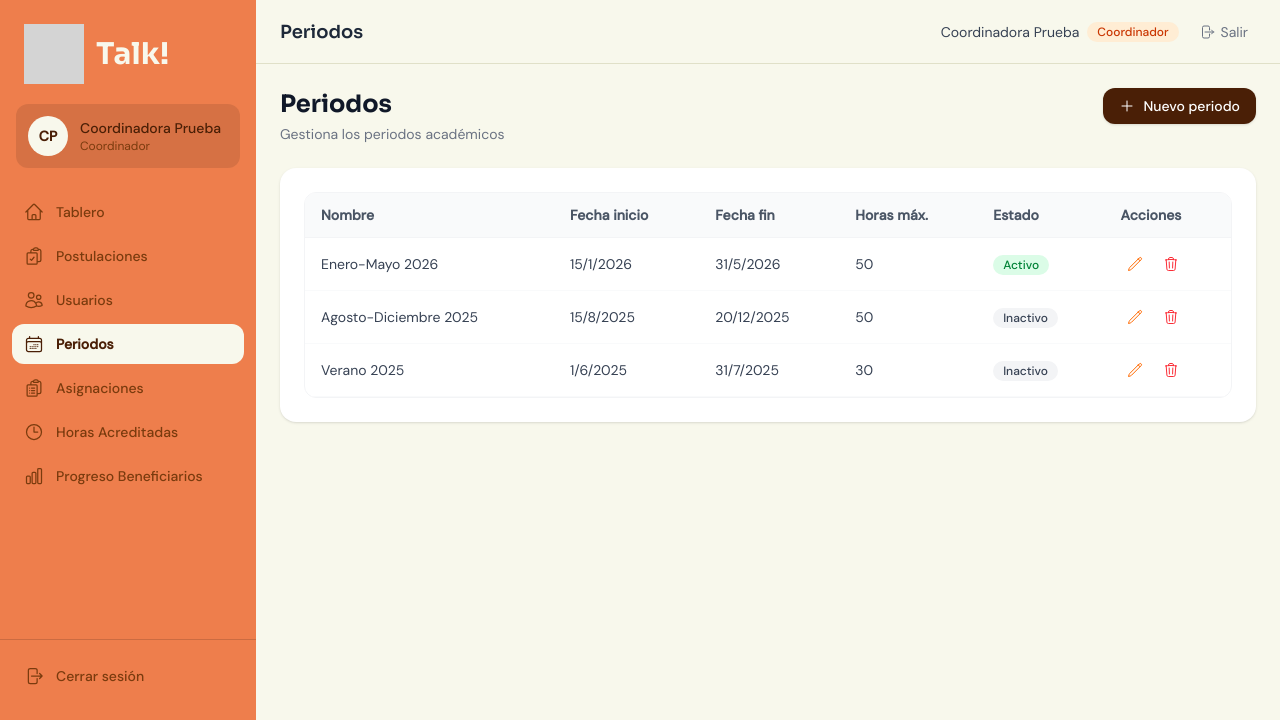
Test case: Periodos › creates periodo successfully and refreshes list
Click the button "Nuevo periodo". click: [1180, 106]
box: [1103,88,1256,124]
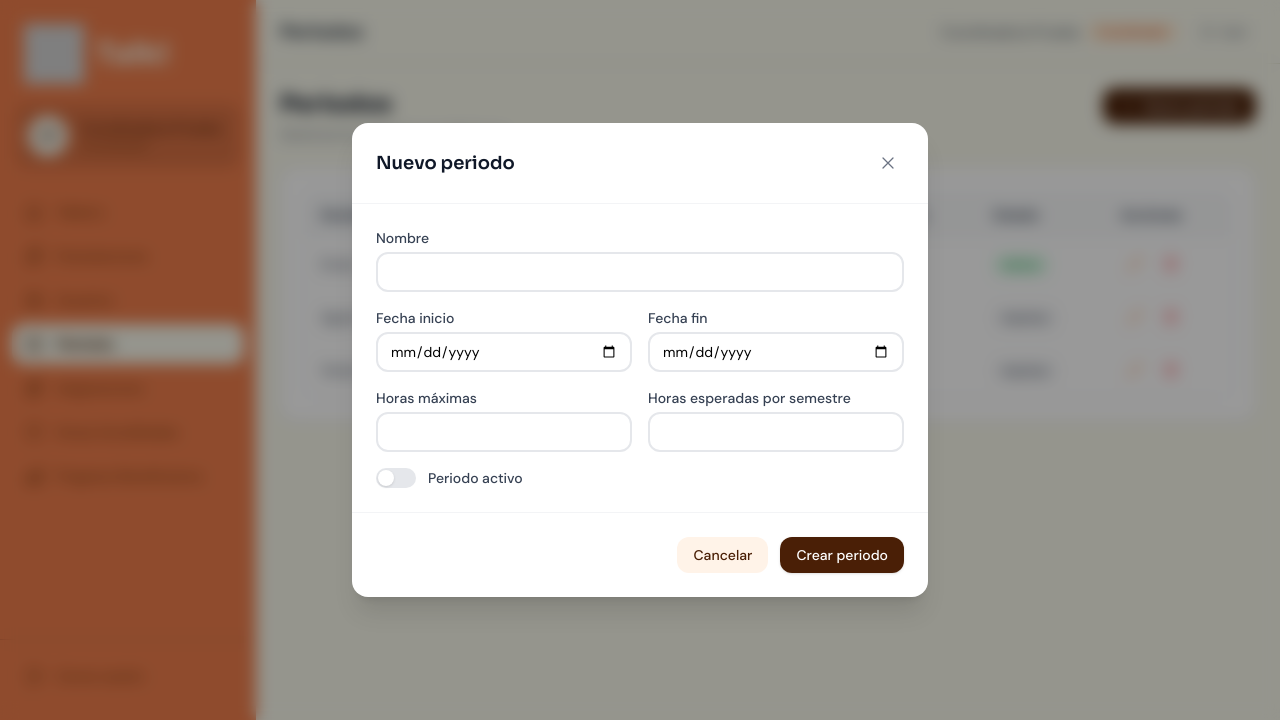
Type "Nuevo Periodo" into the field named "nombre". click: [640, 272]
box: [376,252,904,292]
Type "2026-06-10" into the 1st date field named "fecha_inicio". click: [504, 352]
box: [376,332,632,372]
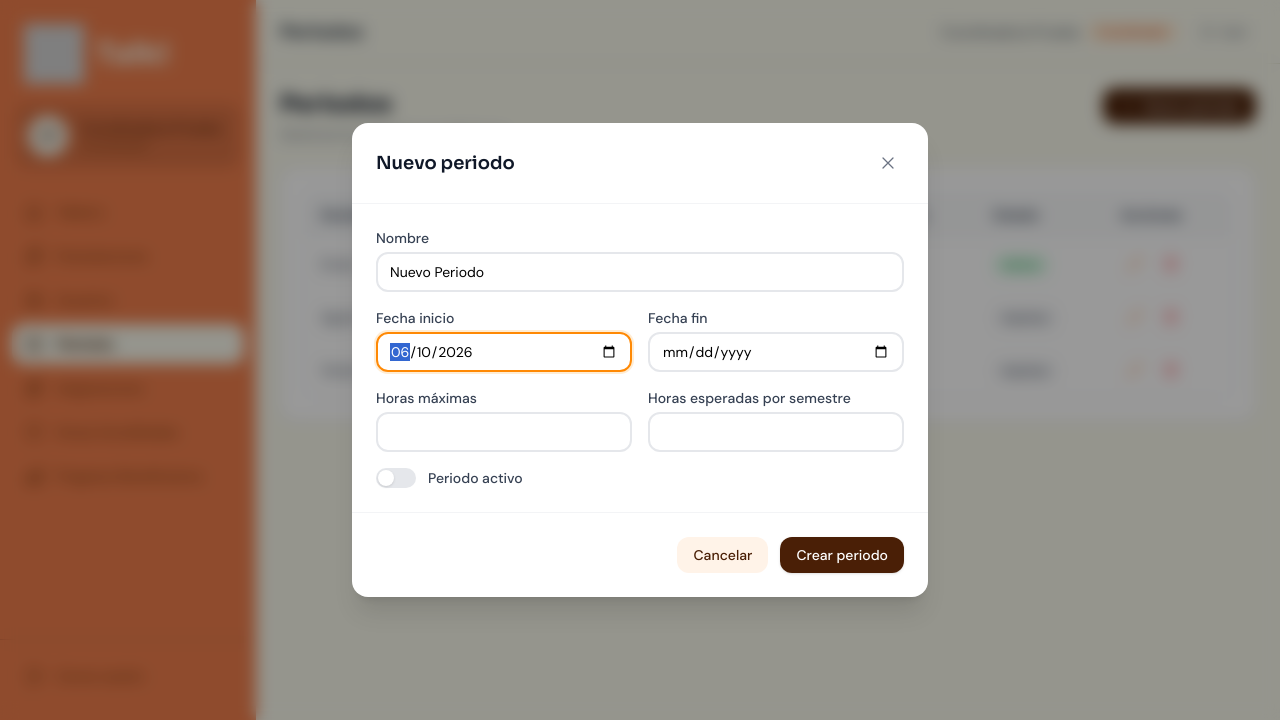
Type "2026-12-15" into the 2nd date field named "fecha_fin". click: [776, 352]
box: [648,332,904,372]
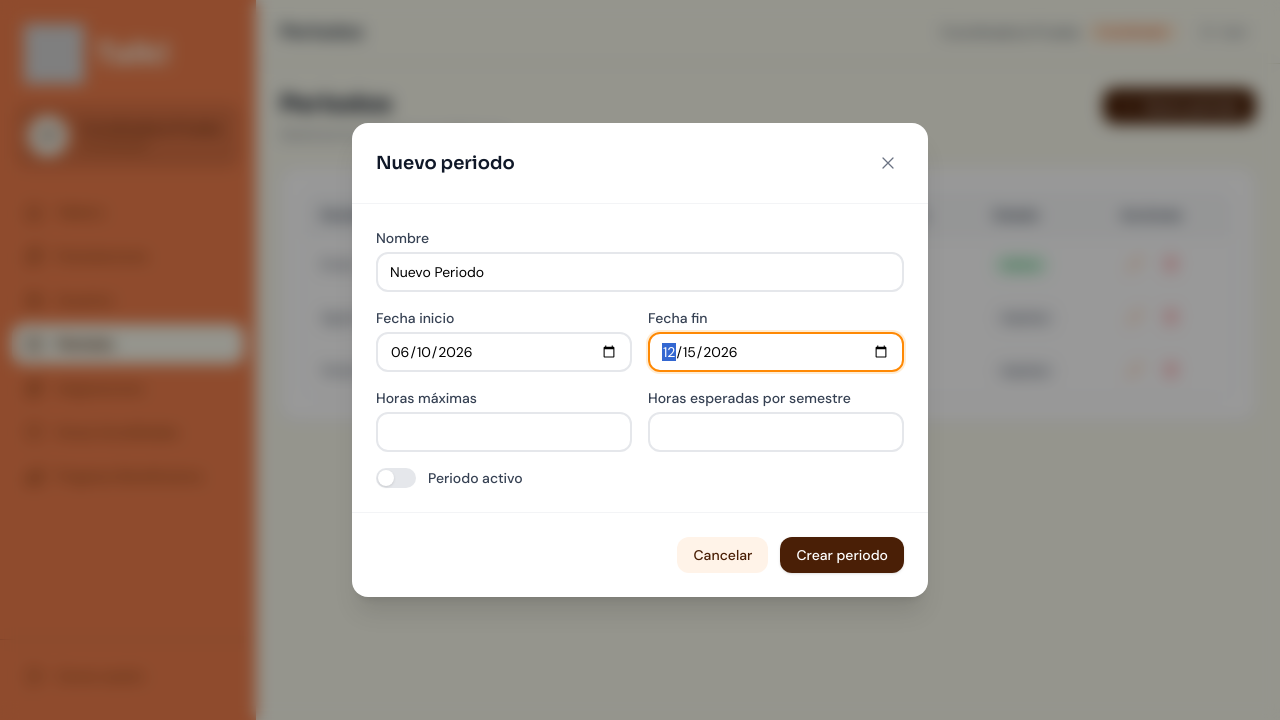
Type "50" into the number field named "horas_max" below "Horas máximas". click: [504, 432]
box: [376,412,632,452]
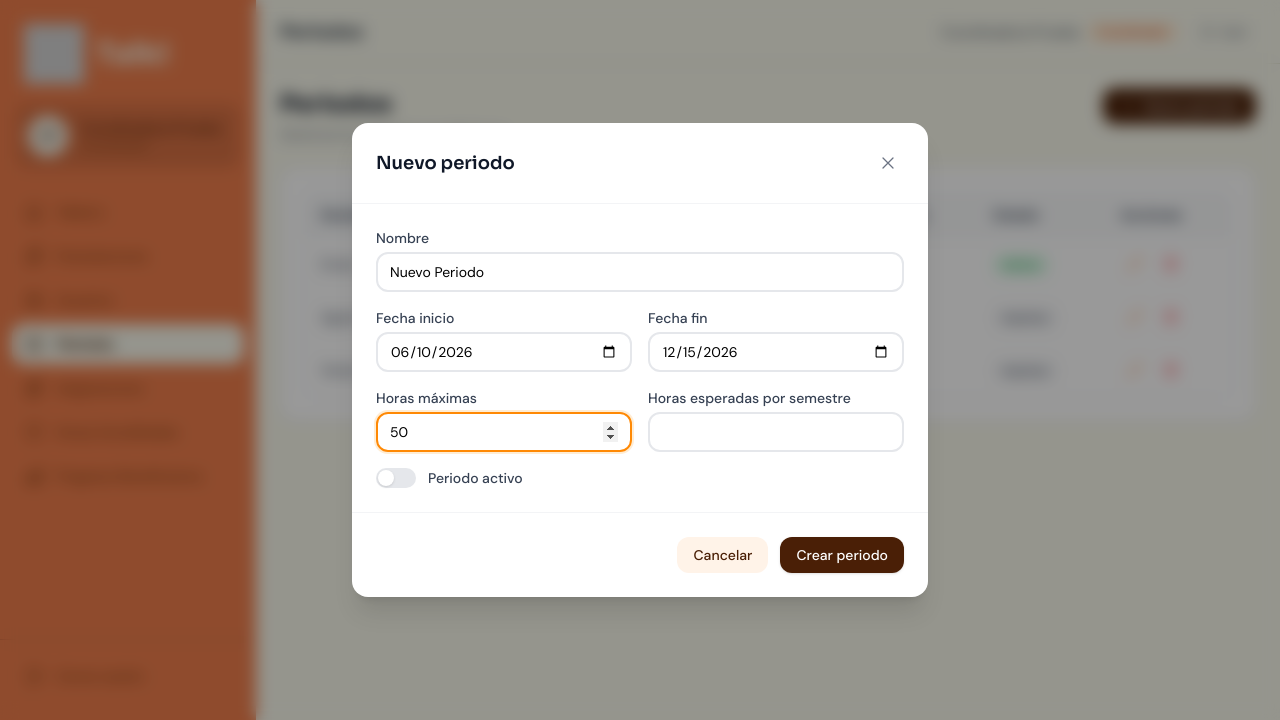
Type "40" into the number field named "horas_esperadas" below "Horas esperadas por semestre". click: [776, 432]
box: [648,412,904,452]
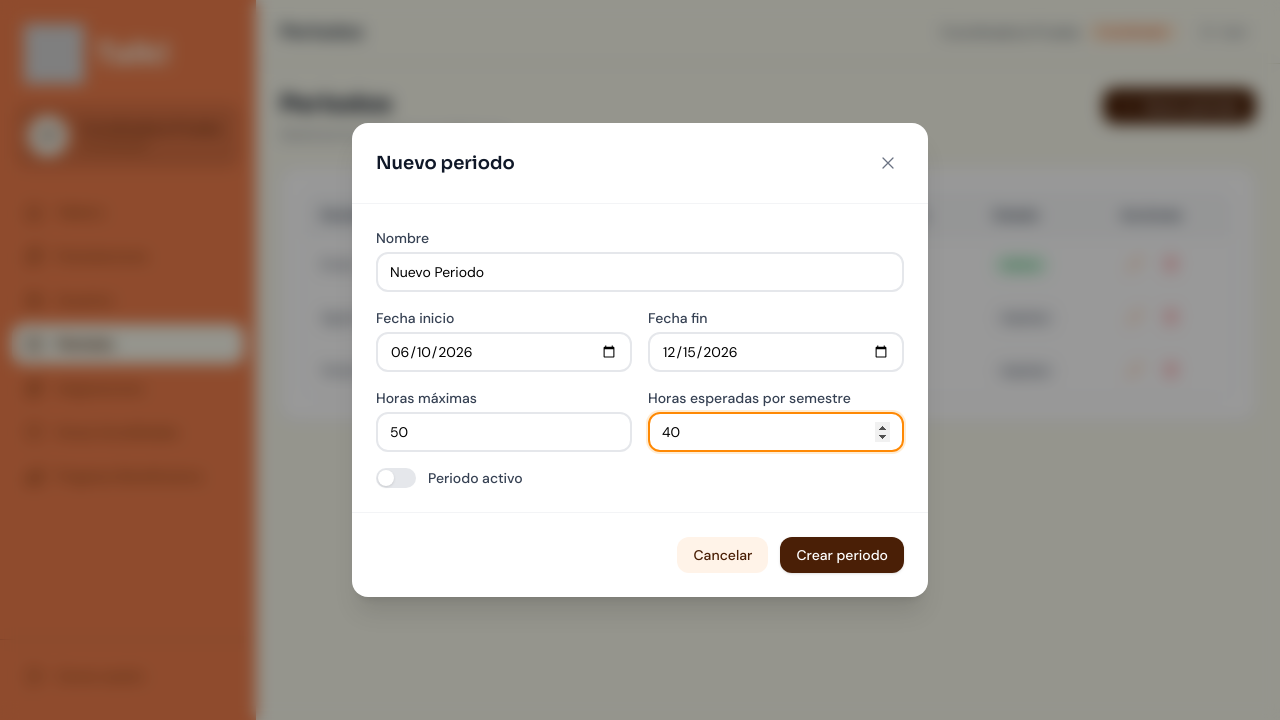
Click the button "Crear periodo". click: [842, 555]
box: [780,537,904,573]
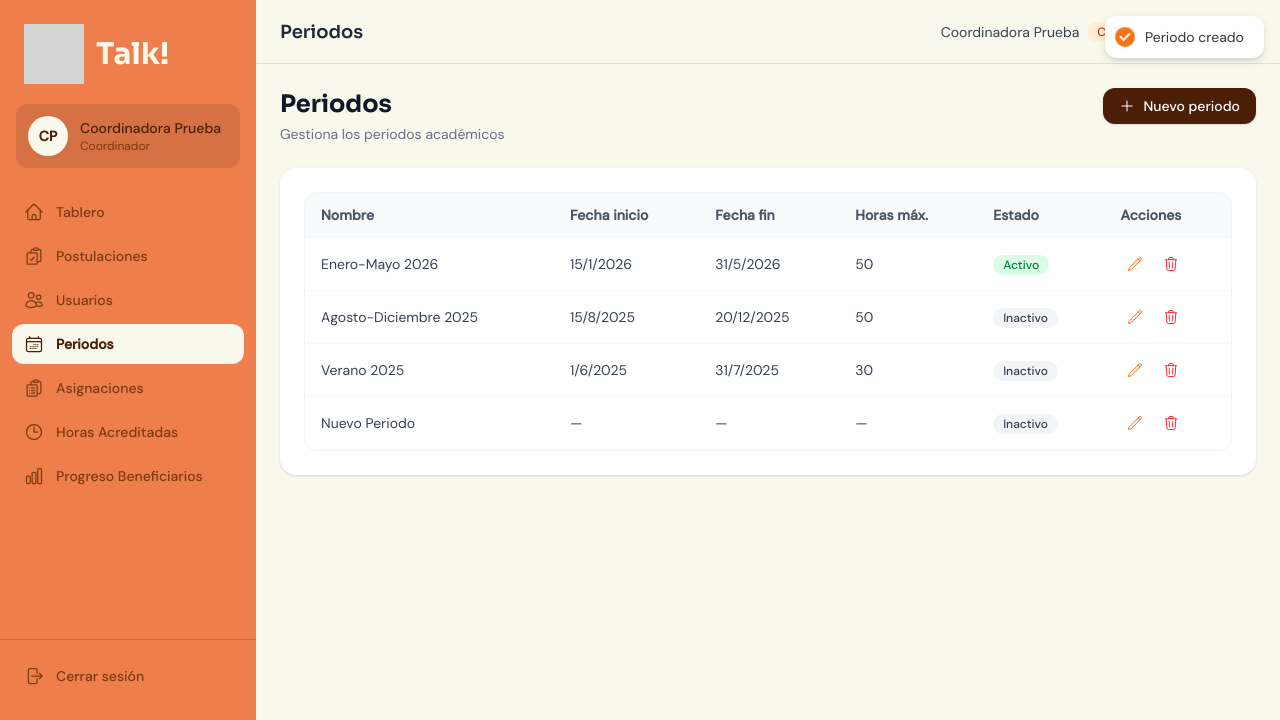
Expected: the text "Periodo creado" is shown, [1145,28,1244,46]
